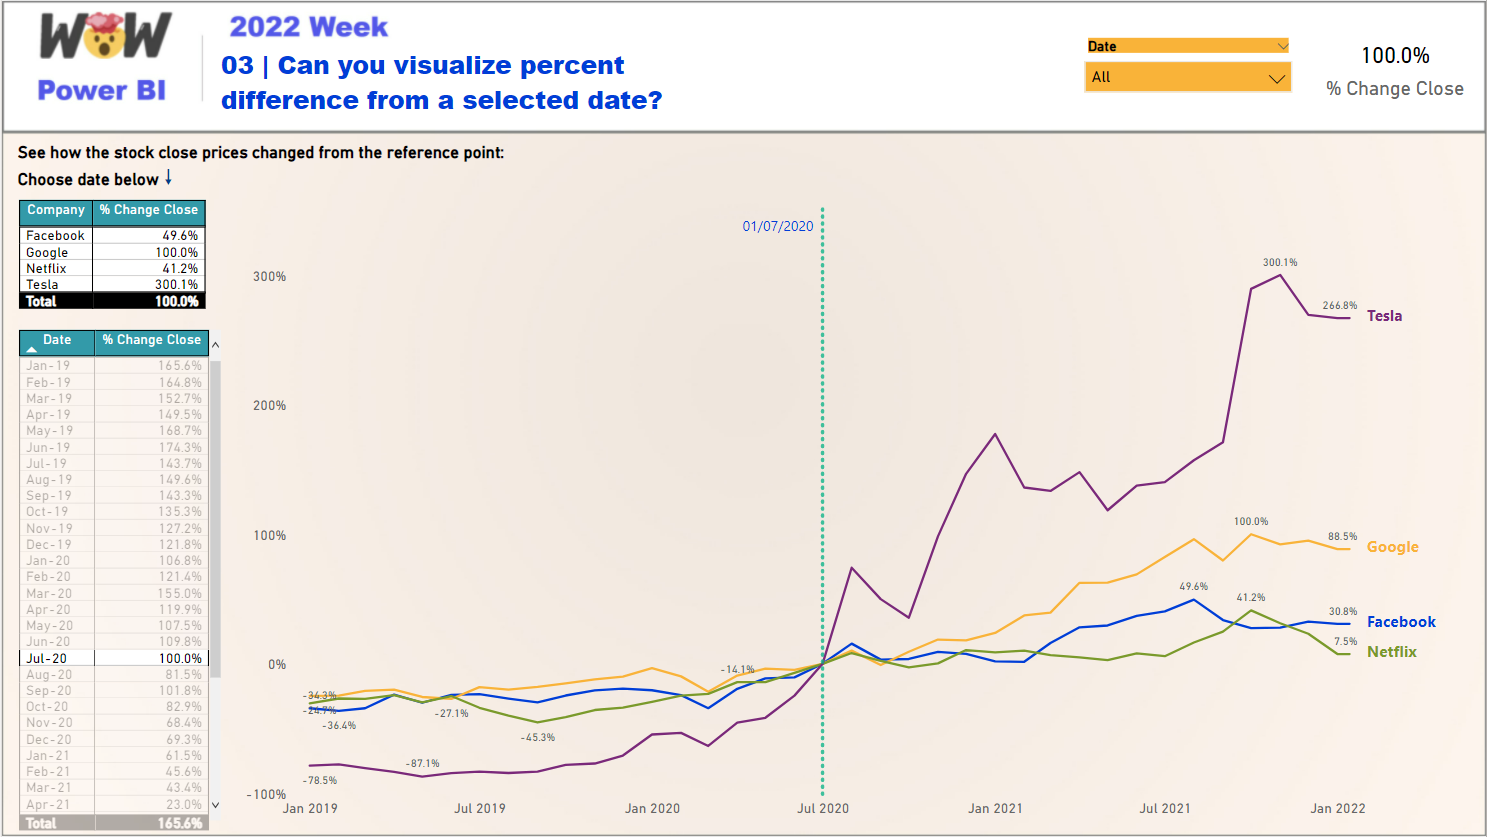

This screenshot's page, from the dashboard's own definition file:
{"tool":"powerbi","page":{"name":"Wk3","canvas":[1280,720],"ordinal":0},"visuals":[{"type":"textbox","box":[183.7,35.4,401.9,69.9],"z":0},{"type":"card","fields":{"Values":["Stocks.% Change Close"]},"box":[1132.5,6,136.3,99.2],"z":1},{"type":"tableEx","fields":{"Values":["RefDate.Date","Stocks.% Change Close"]},"box":[8.6,278.6,184.6,441.6],"z":2},{"type":"textbox","box":[8.6,114.7,457.1,66.4],"z":3},{"type":"lineChart","fields":{"Category":["Stocks.Date"],"Series":["Stocks.Company"],"Y":["Stocks.% Change Close"]},"box":[204.4,166.5,1050.6,544.3],"z":4},{"type":"slicer","fields":{"Values":["RefDate.Date"]},"box":[923.8,26.7,199.2,57.8],"z":5},{"type":"tableEx","fields":{"Values":["Stocks.Company","Stocks.% Change Close"]},"box":[8.6,166.5,184.6,112.1],"z":6}]}

Visuals, with their boxes in screenshot pixels (x1, y1, x2, y2), scaled from the page's 1280x720 canvas onto the 1487x837 screenshot:
textbox: x1=213 y1=41 x2=680 y2=122
card - Stocks.% Change Close: x1=1316 y1=7 x2=1474 y2=122
tableEx - RefDate.Date x Stocks.% Change Close: x1=10 y1=324 x2=224 y2=836
textbox: x1=10 y1=133 x2=541 y2=211
lineChart - Stocks.Date x Stocks.Company: x1=237 y1=194 x2=1458 y2=826
slicer - RefDate.Date: x1=1073 y1=31 x2=1305 y2=98
tableEx - Stocks.Company x Stocks.% Change Close: x1=10 y1=194 x2=224 y2=324
